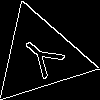Y: (15, 31, 74, 87)
